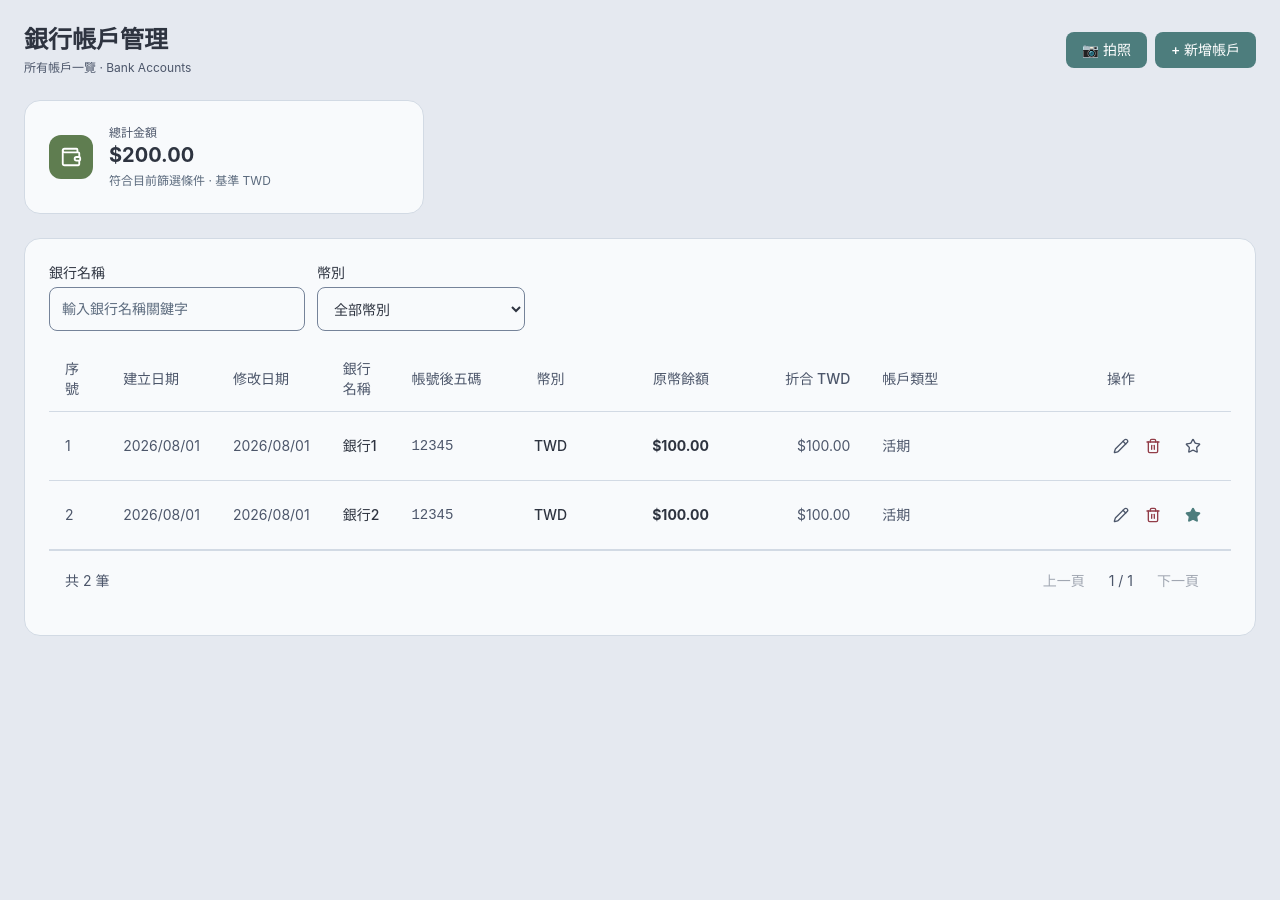
Test: keeps a confirmed write when the follow-up refresh fails
Click the 5th button at (1193, 446), box [1171, 424, 1215, 468]
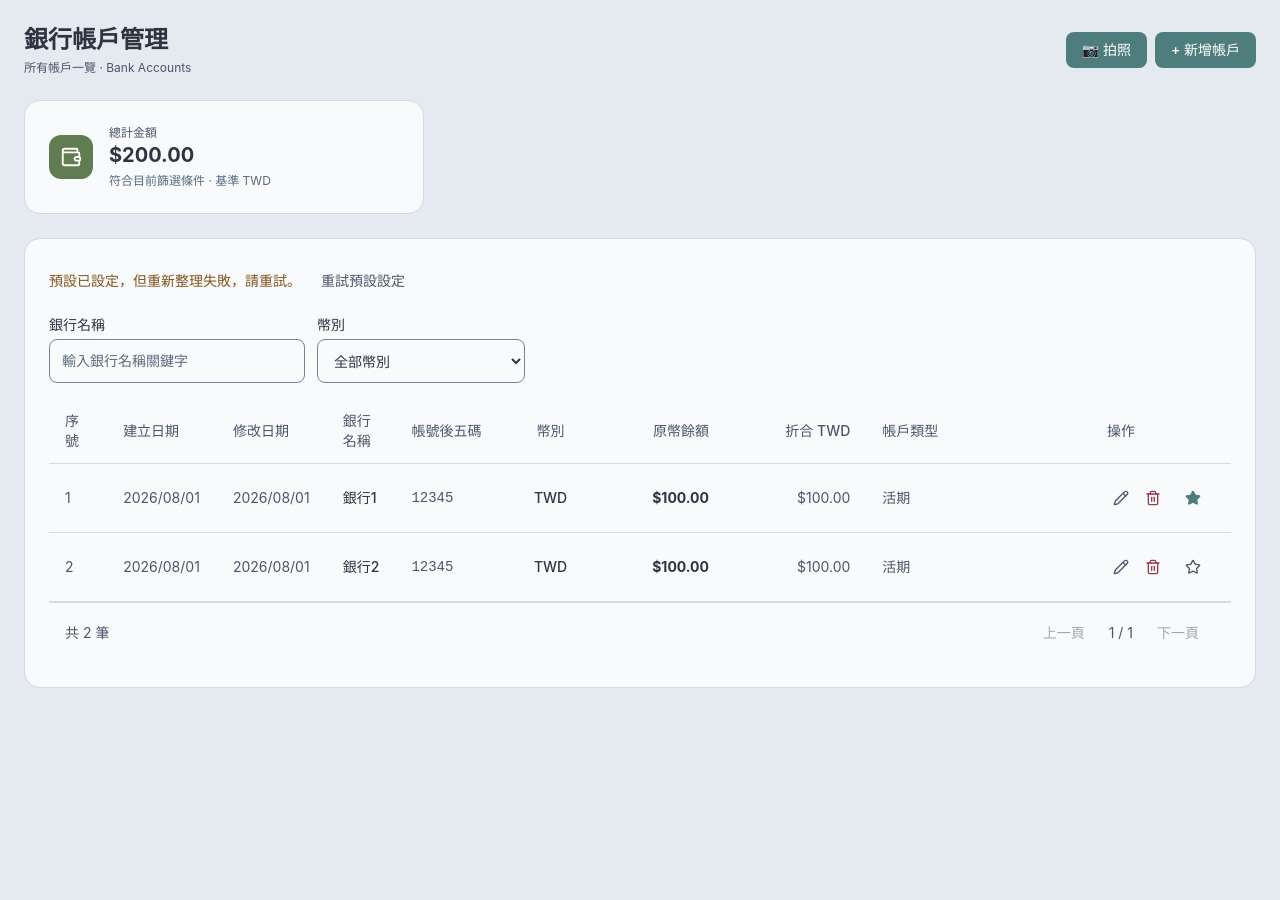
Expected: the picture with test id "default-indicator" is shown, [1185, 490, 1201, 506]
Now the text "預設已設定，但重新整理失敗" is shown, box [49, 272, 305, 289]
